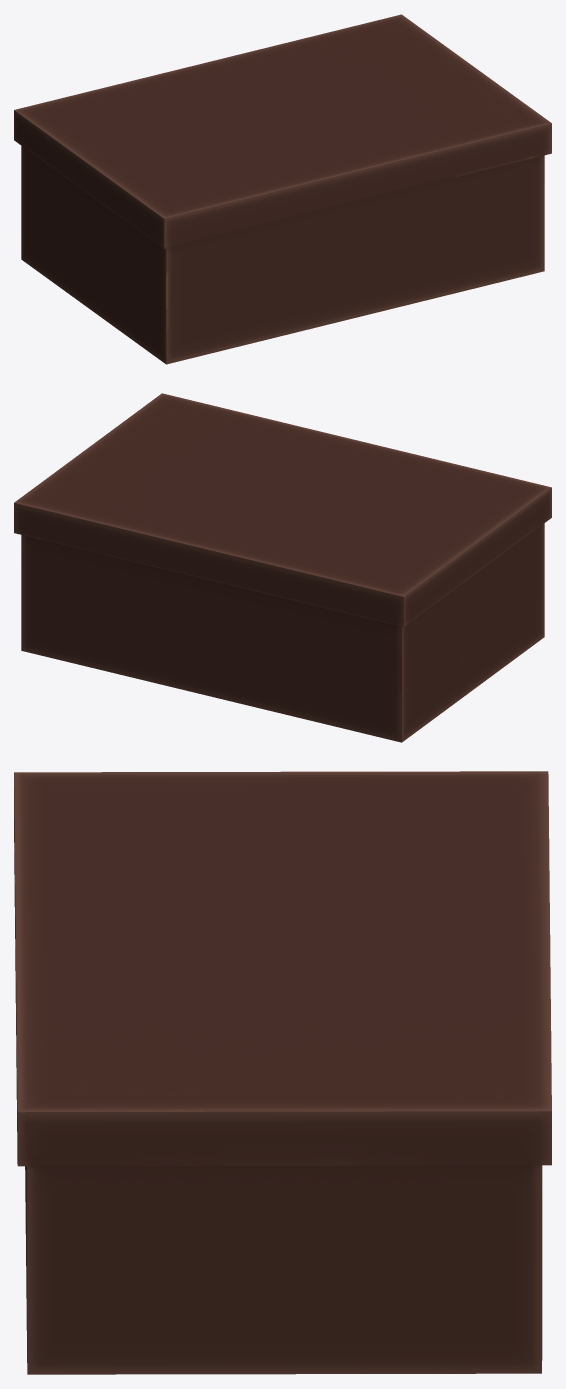
File: ShoeBox.fbx
The picture shows the model from 3 angles, top to bottom: view 1: azimuth 30°, elevation 25°; view 2: azimuth 150°, elevation 25°; view 3: azimuth 270°, elevation 25°; orthographic projection. The views are drawn at different scales.
Visible parts, largest first — view 1: ShoeBox; view 2: ShoeBox; view 3: ShoeBox.
Boxes of the visible parts, bbox=[...] form: ShoeBox: bbox=[14, 14, 551, 364]; ShoeBox: bbox=[14, 393, 551, 742]; ShoeBox: bbox=[14, 771, 551, 1374].
Bounding box in the file's own units: 32.9 × 12 × 21.94.
